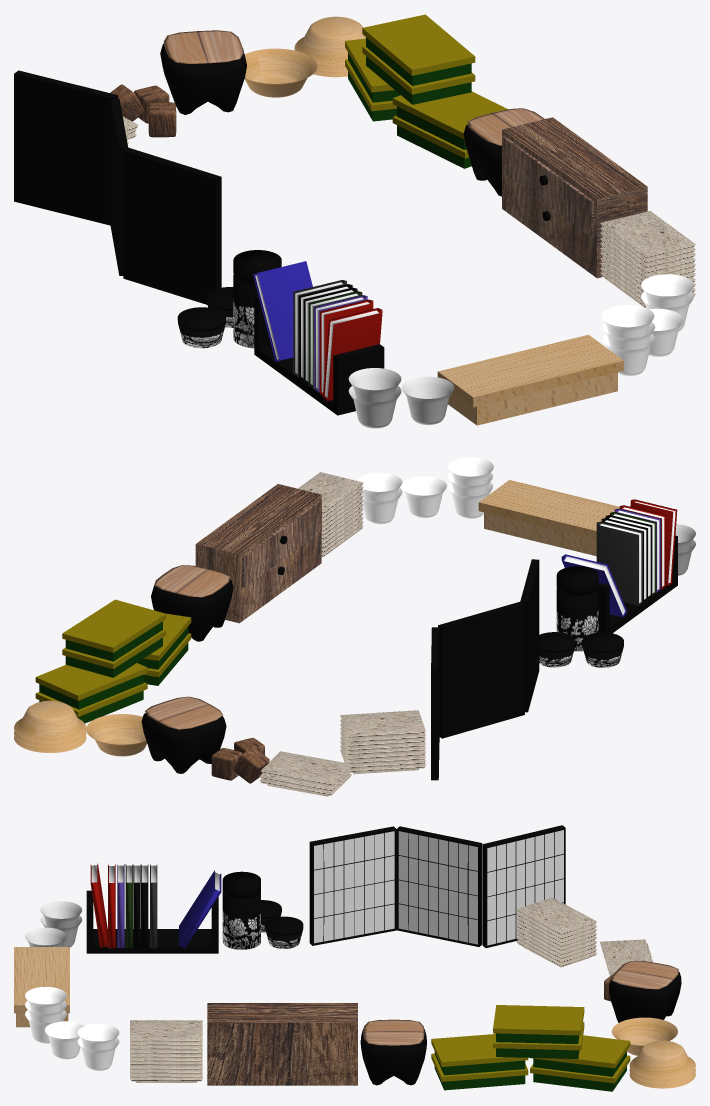
File: backgrounditem.glb
3 renders of one model, top to bottom at view 1: azimuth 30°, elevation 25°; view 2: azimuth 150°, elevation 25°; view 3: azimuth 270°, elevation 25°, orthographic. The views are drawn at different scales.
Parts seen in each view (by area): view 1: 立方體.001, 立方體.026, 立方體.024, 立方體.014, 立方體.045, 立方體.043, 立方體.017, 立方體.015, 立方體.039, 立方體, 圓柱體.018, 圓柱體.012 (+27 smaller); view 2: 立方體.001, 立方體.025, 立方體.014, 立方體.045, 立方體, 立方體.043, 立方體.042, 圓柱體.012, 立方體.023, 圓柱體.017, 圓柱體.018, 立方體.024 (+26 smaller); view 3: 立方體.001, 立方體.024, 立方體.025, 立方體.026, 立方體, 立方體.045, 立方體.043, 立方體.014, 圓柱體.012, 立方體.017, 立方體.039, 立方體.042 (+25 smaller).
Boxes of the visible parts, x1=… form: 立方體.001: x1=502, y1=117, x2=647, y2=278; 立方體.026: x1=14, y1=70, x2=118, y2=225; 立方體.024: x1=123, y1=148, x2=221, y2=304; 立方體.014: x1=437, y1=334, x2=623, y2=425; 立方體.045: x1=160, y1=30, x2=246, y2=114; 立方體.043: x1=362, y1=14, x2=475, y2=85; 立方體.017: x1=254, y1=295, x2=384, y2=415; 立方體.015: x1=253, y1=261, x2=312, y2=361; 立方體.039: x1=392, y1=91, x2=507, y2=149; 立方體: x1=463, y1=108, x2=544, y2=196; 圓柱體.018: x1=244, y1=48, x2=317, y2=97; 圓柱體.012: x1=233, y1=250, x2=281, y2=348; 立方體.001: x1=195, y1=484, x2=321, y2=623; 立方體.025: x1=438, y1=601, x2=524, y2=738; 立方體.014: x1=478, y1=480, x2=619, y2=556; 立方體.045: x1=141, y1=696, x2=226, y2=773; 立方體: x1=151, y1=565, x2=233, y2=641; 立方體.043: x1=62, y1=599, x2=166, y2=661; 立方體.042: x1=35, y1=663, x2=147, y2=709; 圓柱體.012: x1=556, y1=566, x2=598, y2=651; 立方體.023: x1=596, y1=521, x2=642, y2=605; 圓柱體.017: x1=14, y1=700, x2=86, y2=743; 圓柱體.018: x1=86, y1=714, x2=147, y2=756; 立方體.024: x1=520, y1=559, x2=539, y2=712; 立方體.001: x1=207, y1=1003, x2=357, y2=1085; 立方體.024: x1=309, y1=826, x2=396, y2=945; 立方體.025: x1=396, y1=826, x2=482, y2=946; 立方體.026: x1=482, y1=825, x2=565, y2=948; 立方體: x1=360, y1=1019, x2=426, y2=1085; 立方體.045: x1=609, y1=961, x2=681, y2=1022; 立方體.043: x1=493, y1=1005, x2=584, y2=1043; 立方體.014: x1=14, y1=947, x2=69, y2=1027; 圓柱體.012: x1=222, y1=871, x2=260, y2=949; 立方體.017: x1=86, y1=890, x2=218, y2=953; 立方體.039: x1=431, y1=1034, x2=528, y2=1075; 立方體.042: x1=530, y1=1035, x2=630, y2=1076.
Bounding box in the file's own units: 160 × 43.4 × 262.
87 materials, 38 textured.
